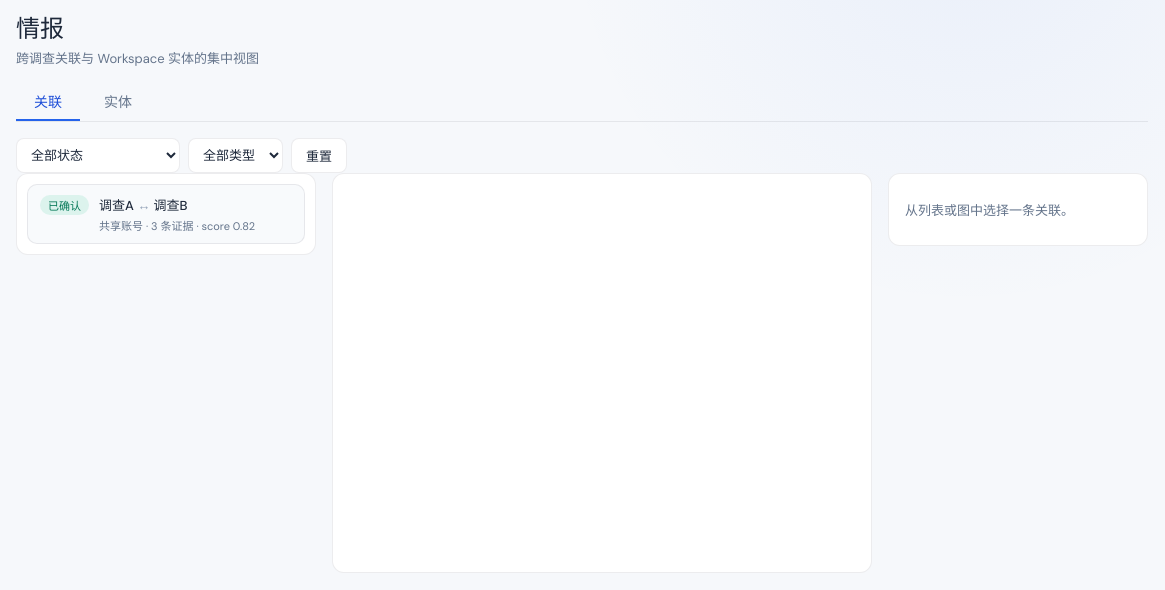
IntelligenceView › switches to entities tab and loads the entity list
What coordinates should you click on to do the following:
click the tab with class "intelview__tab" showing "实体"
I would click on:
 (118, 102)
Its box is left=86, top=83, right=150, bottom=121.
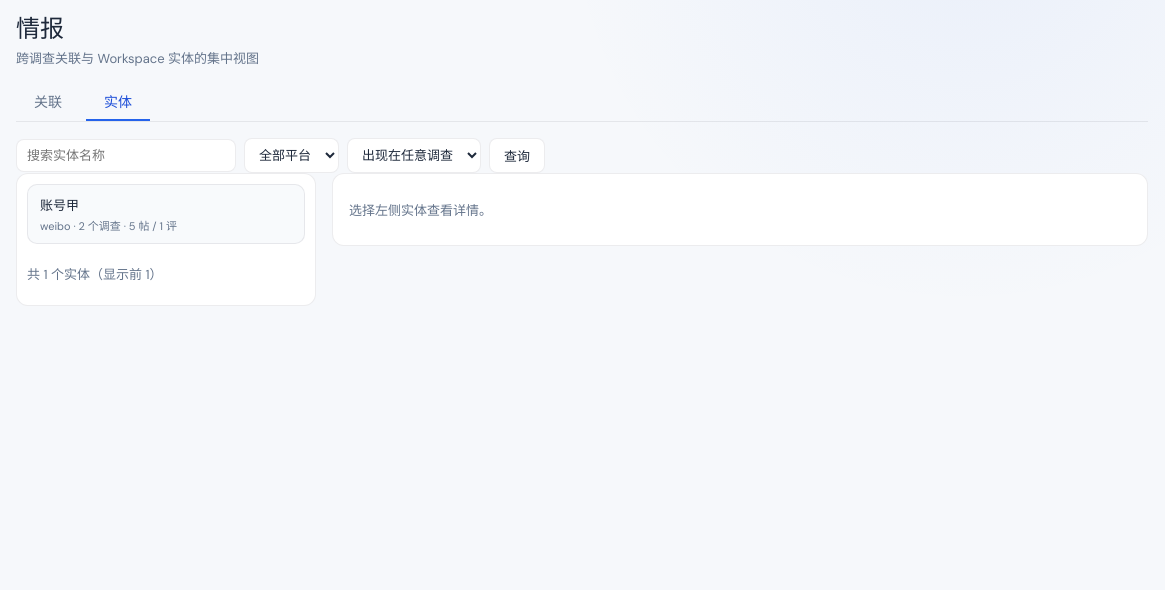
Now the text "账号甲" is shown, box left=40, top=197, right=79, bottom=214
